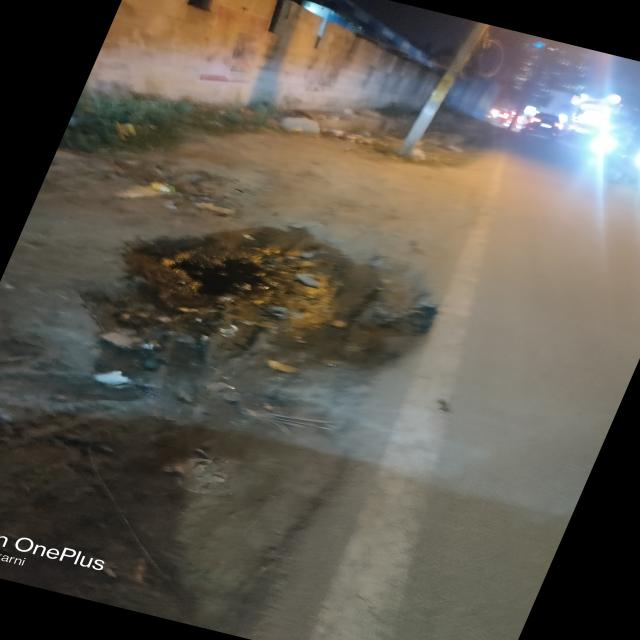potholes: (116, 223, 423, 392)
